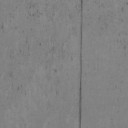surface scratch: (78, 0, 83, 128)
